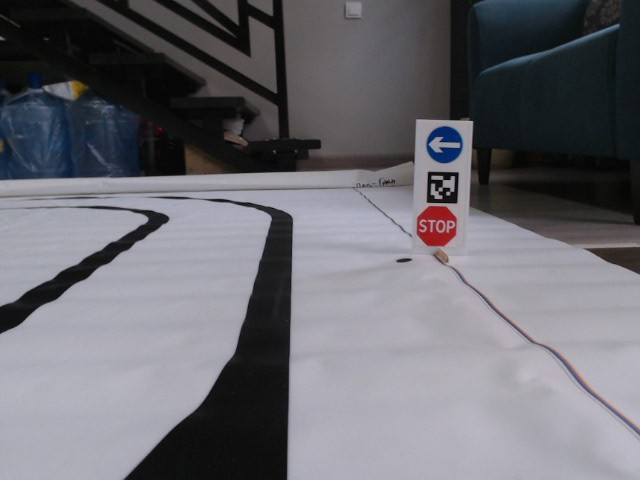Stop: (414, 204, 459, 248)
